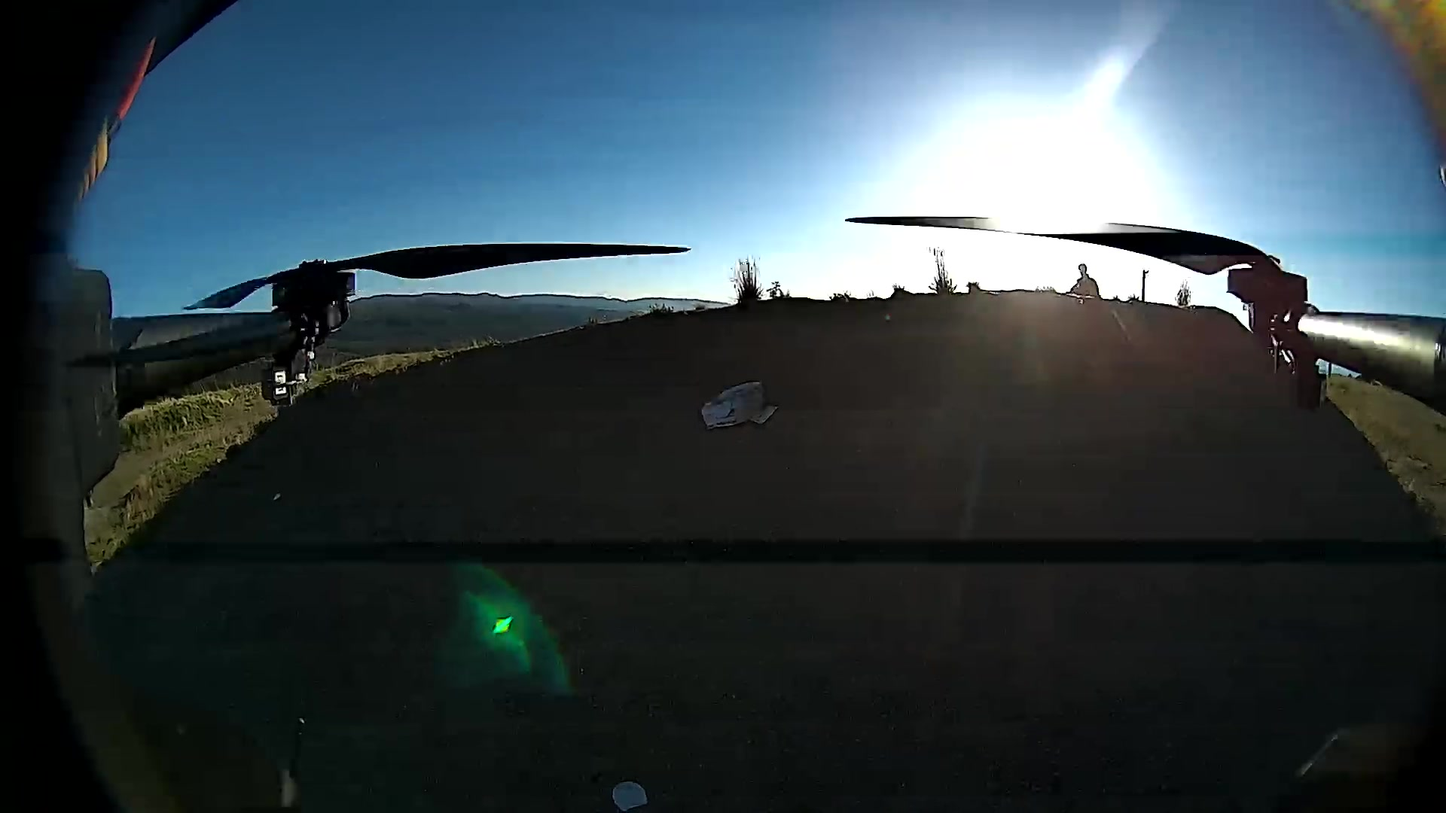Target: (612, 784, 648, 808)
